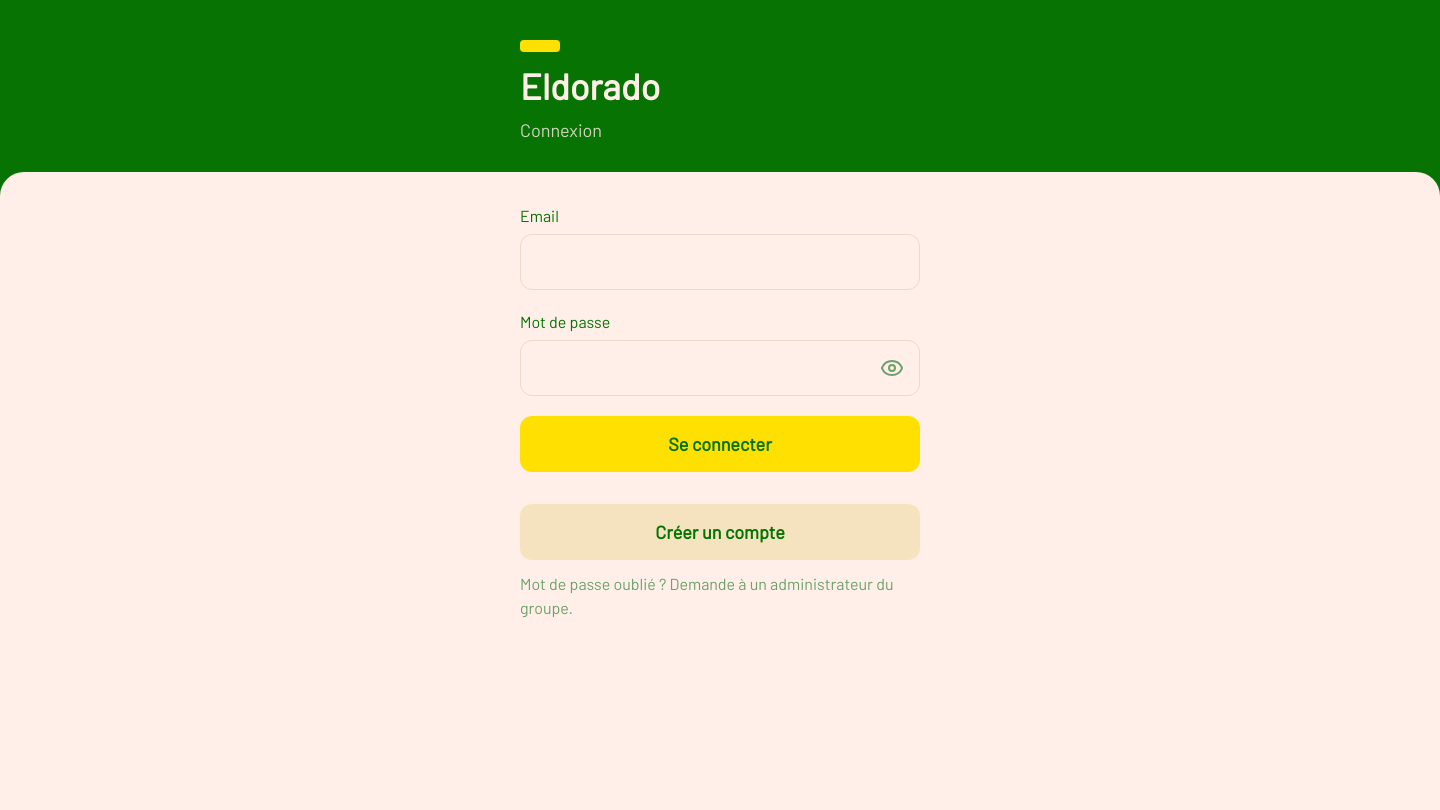
Scenario: LoginScreen › affiche le message en français quand les identifiants sont refusés
Step 1. Type "bob@example.com" into the field labelled "Email" → point(720, 262), box [520,234,920,290]
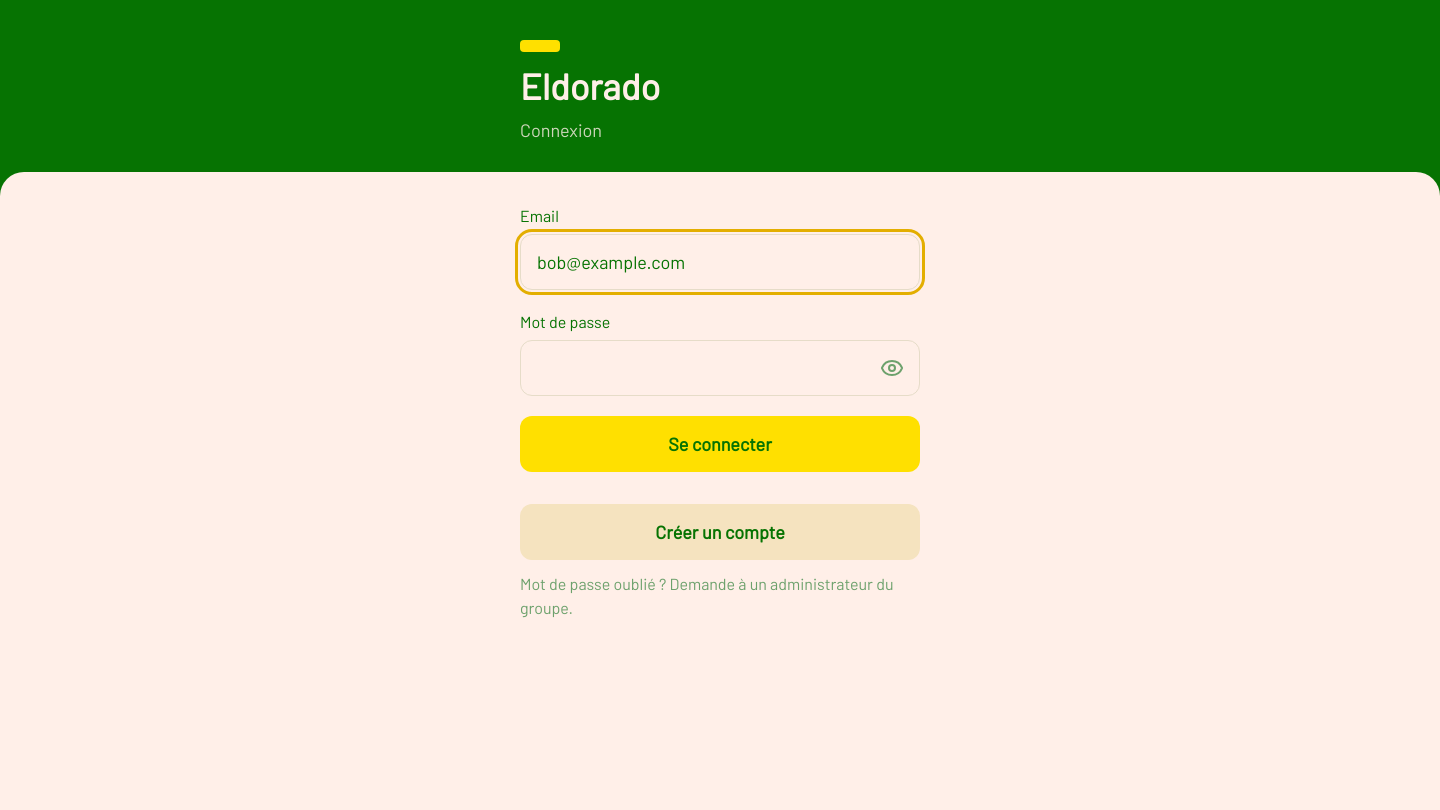
Step 2. Type "mauvais" into the password field labelled "Mot de passe" → point(720, 368), box [520,340,920,396]
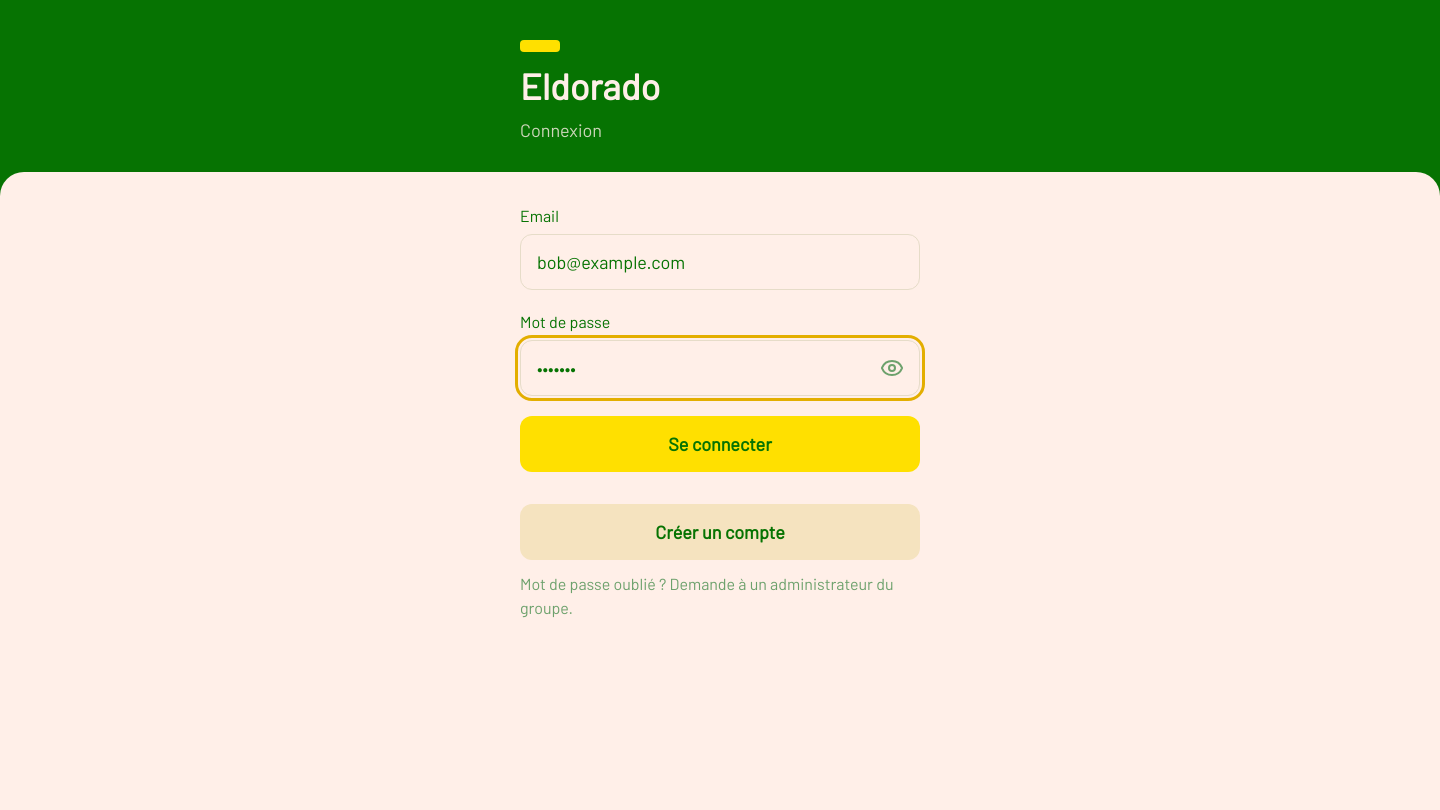
Step 3. Click the button "Se connecter" → point(720, 444), box [520,416,920,472]
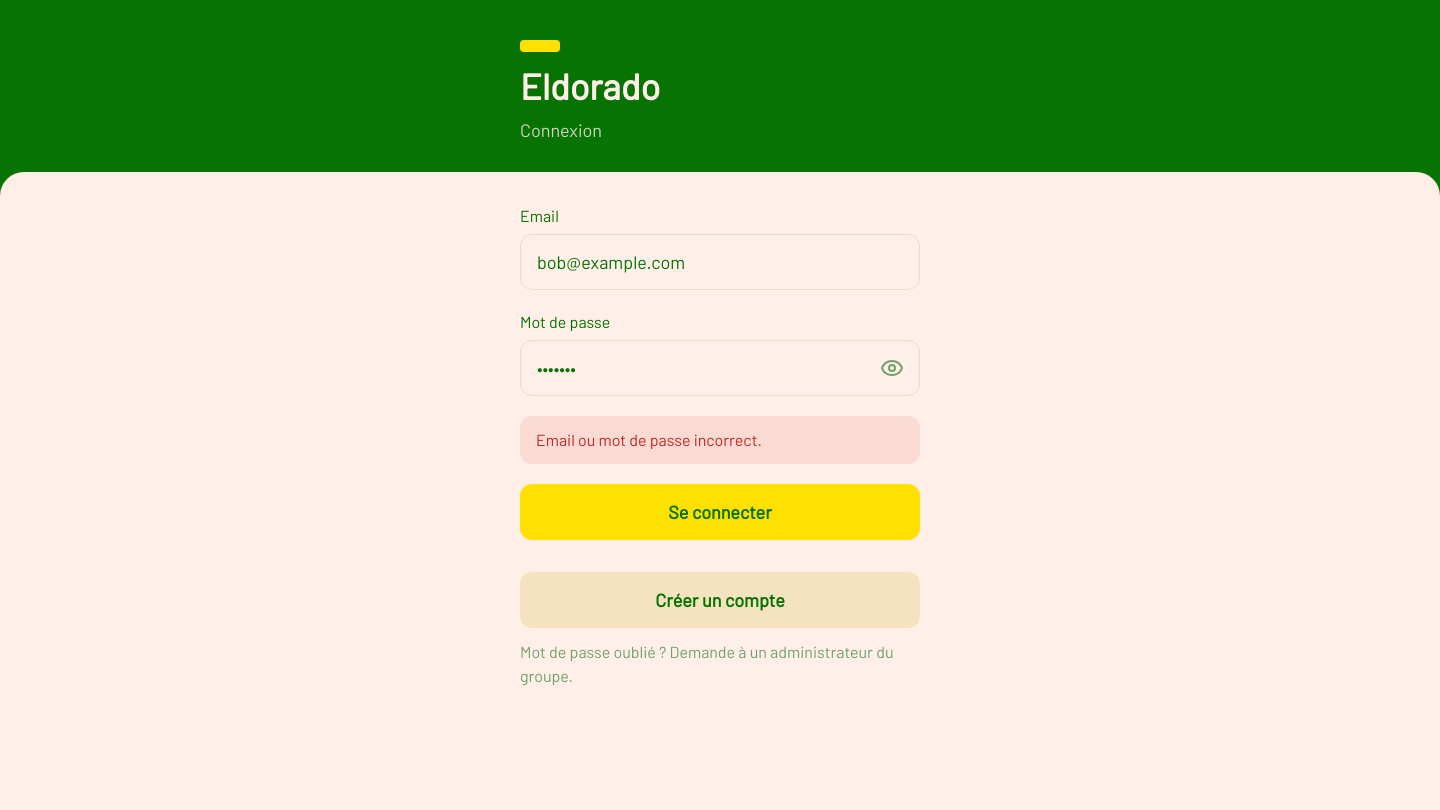
Result: the message reads "Email ou mot de passe incorrect." at [536,430,762,449]
